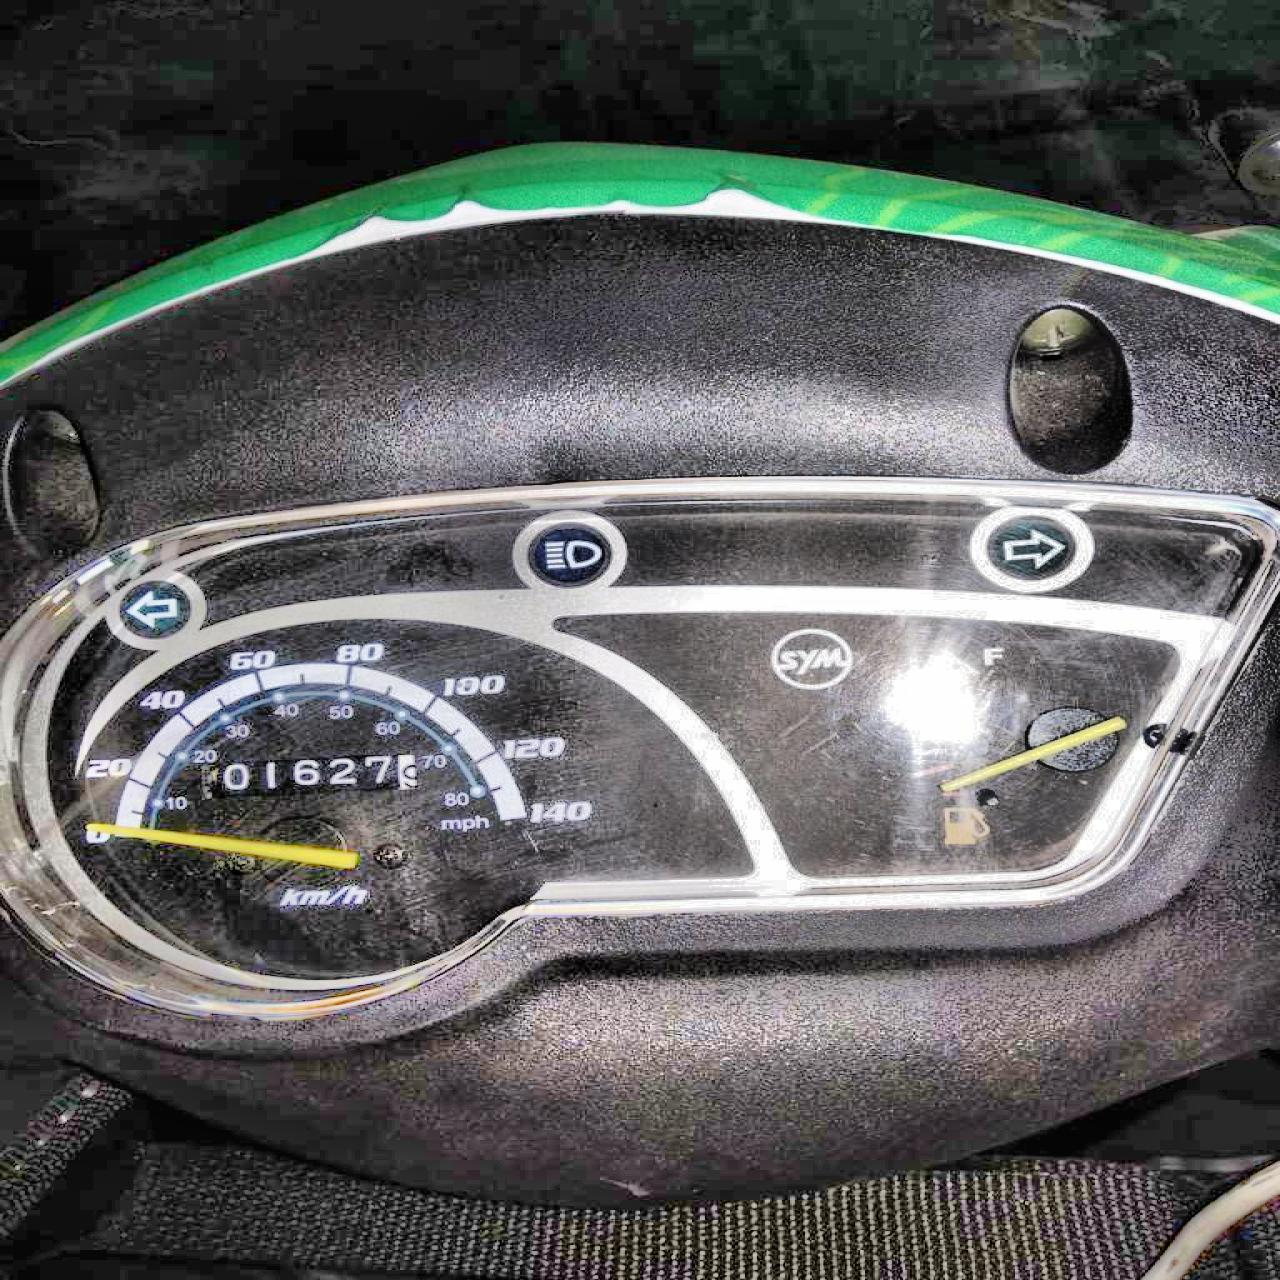0: (222, 760, 250, 790), (203, 749, 217, 763)
1: (261, 756, 278, 791)
2: (325, 756, 356, 788)
6: (291, 757, 321, 788)
7: (362, 754, 390, 785)
9: (396, 760, 421, 794)
odometer: (202, 751, 425, 797)
